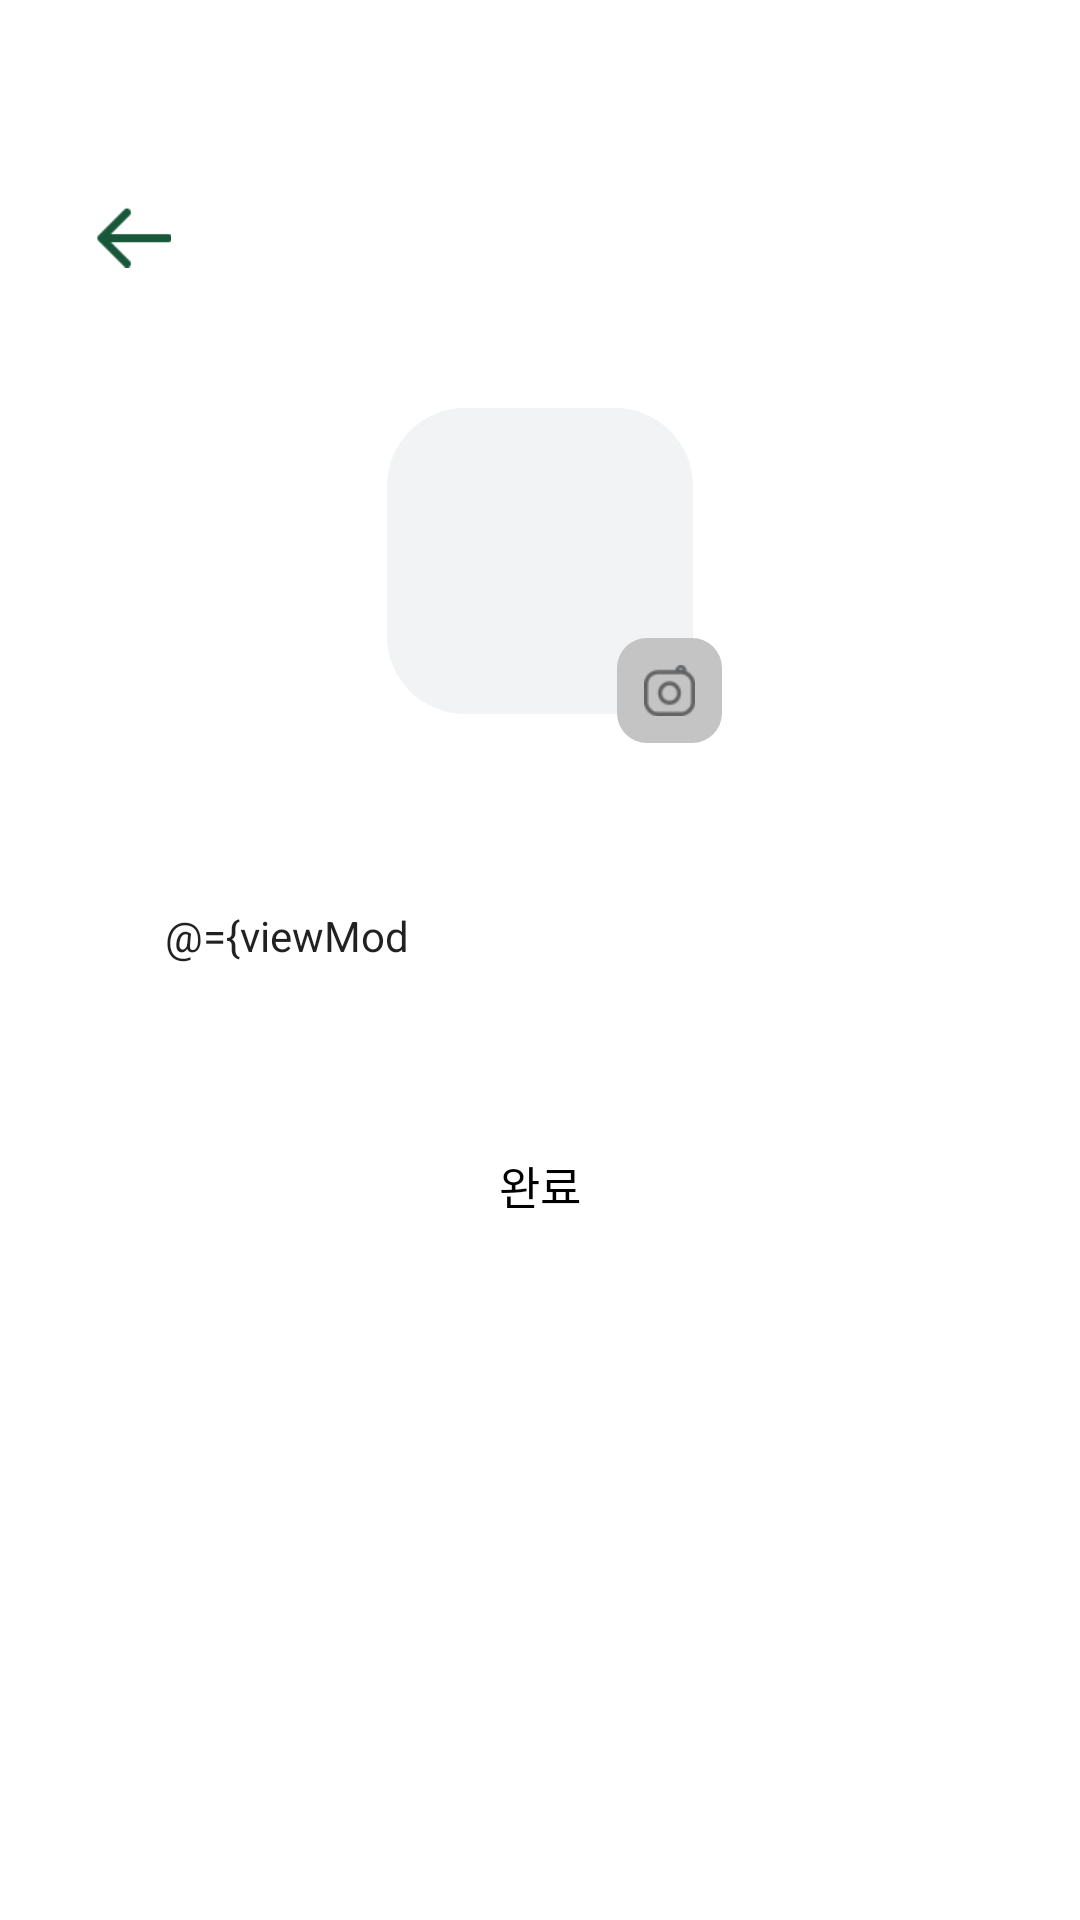

Screen size 1080×1920. Icon name, then its center in pixels as point (x, y):
arrow back: point (134, 238)
